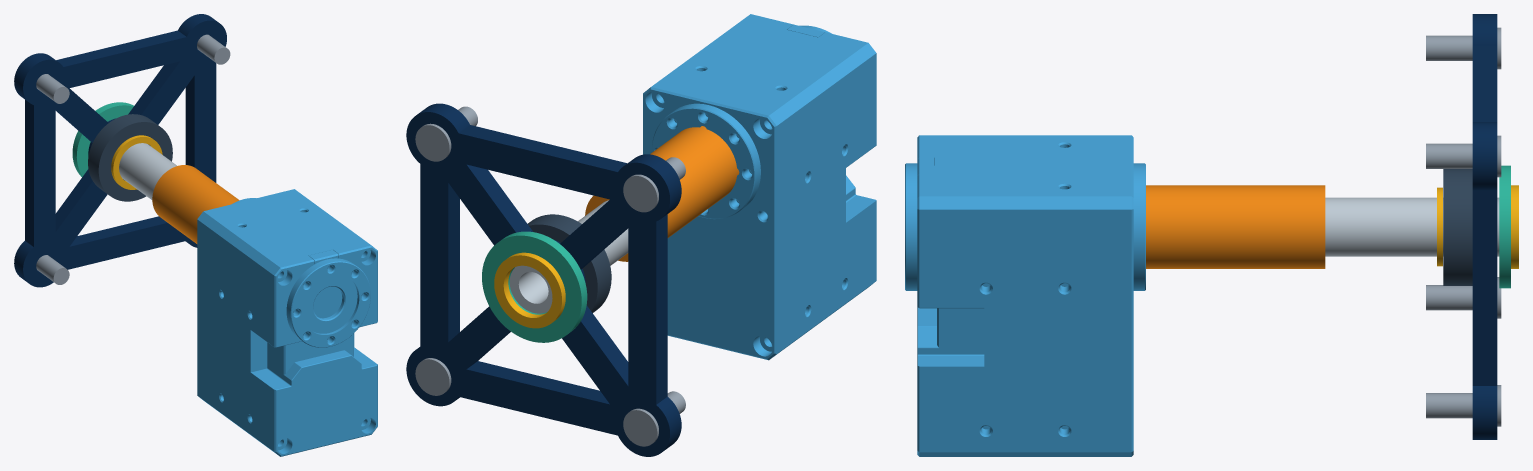
Rendered from JMF-06-LEG-DIRECT_assembly.glb.
3 renders of one model, left to right at view 1: azimuth 30°, elevation 25°; view 2: azimuth 150°, elevation 25°; view 3: azimuth 270°, elevation 25°, orthographic. The views are drawn at different scales.
Parts seen in each view (by area): view 1: ACTUATOR, CARRIER_B, OUTPUT_COUPLER, BEARING_B, OUTPUT_SHAFT, OUTPUT_ENCODER_CARRIER, RETAINER_B, CARRIER_B_SCREW_12, CARRIER_B_SCREW_21, CARRIER_B_SCREW_22; view 2: ACTUATOR, CARRIER_B, OUTPUT_COUPLER, OUTPUT_ENCODER_CARRIER, OUTPUT_MAGNET_HUB, OUTPUT_SHAFT, BEARING_B, CARRIER_B_SCREW_21, CARRIER_B_SCREW_22, CARRIER_B_SCREW_12, CARRIER_B_SCREW_11; view 3: ACTUATOR, OUTPUT_COUPLER, CARRIER_B, OUTPUT_SHAFT, BEARING_B, OUTPUT_ENCODER_CARRIER, CARRIER_B_SCREW_12, CARRIER_B_SCREW_22, CARRIER_B_SCREW_11, CARRIER_B_SCREW_21, OUTPUT_MAGNET_HUB.
Boxes of the visible parts, bbox=[...] form: ACTUATOR: bbox=[197, 189, 377, 456]; CARRIER_B: bbox=[14, 14, 226, 287]; OUTPUT_COUPLER: bbox=[152, 165, 239, 243]; BEARING_B: bbox=[88, 114, 172, 201]; OUTPUT_SHAFT: bbox=[119, 143, 176, 199]; OUTPUT_ENCODER_CARRIER: bbox=[72, 102, 133, 176]; RETAINER_B: bbox=[111, 135, 162, 189]; CARRIER_B_SCREW_12: bbox=[197, 34, 230, 64]; CARRIER_B_SCREW_21: bbox=[36, 255, 69, 284]; CARRIER_B_SCREW_22: bbox=[36, 74, 69, 103]; ACTUATOR: bbox=[643, 14, 876, 360]; CARRIER_B: bbox=[406, 103, 681, 456]; OUTPUT_COUPLER: bbox=[585, 126, 739, 261]; OUTPUT_ENCODER_CARRIER: bbox=[482, 231, 587, 342]; OUTPUT_MAGNET_HUB: bbox=[494, 252, 565, 328]; OUTPUT_SHAFT: bbox=[509, 200, 628, 313]; BEARING_B: bbox=[528, 214, 611, 312]; CARRIER_B_SCREW_21: bbox=[623, 391, 685, 446]; CARRIER_B_SCREW_22: bbox=[623, 157, 685, 212]; CARRIER_B_SCREW_12: bbox=[415, 106, 477, 161]; CARRIER_B_SCREW_11: bbox=[415, 358, 451, 395]; ACTUATOR: bbox=[905, 135, 1145, 456]; OUTPUT_COUPLER: bbox=[1146, 185, 1325, 268]; CARRIER_B: bbox=[1472, 14, 1497, 439]; OUTPUT_SHAFT: bbox=[1325, 197, 1499, 256]; BEARING_B: bbox=[1443, 169, 1472, 285]; OUTPUT_ENCODER_CARRIER: bbox=[1499, 165, 1510, 288]; CARRIER_B_SCREW_12: bbox=[1426, 135, 1501, 177]; CARRIER_B_SCREW_22: bbox=[1426, 27, 1501, 69]; CARRIER_B_SCREW_11: bbox=[1426, 385, 1501, 426]; CARRIER_B_SCREW_21: bbox=[1426, 277, 1501, 318]; OUTPUT_MAGNET_HUB: bbox=[1511, 185, 1518, 268].
Size of the model in its own units: 65.99 by 79.74 by 125.
